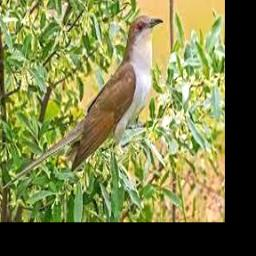Cuckoo: (3, 14, 164, 190)
